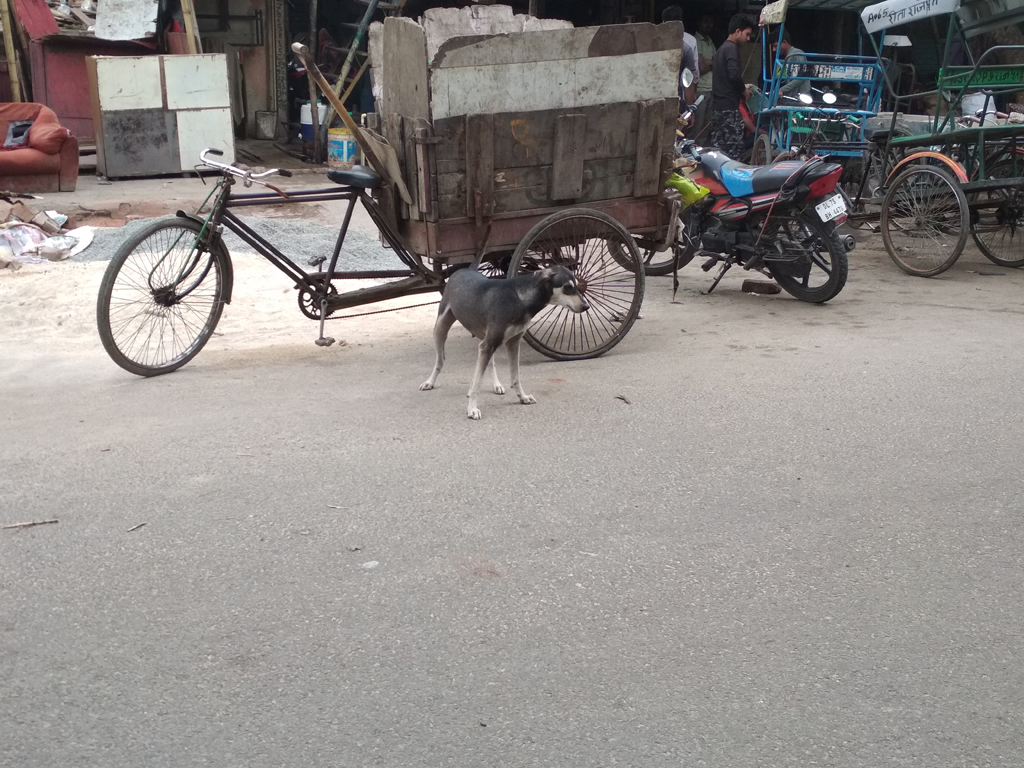dog: (418, 252, 590, 421)
